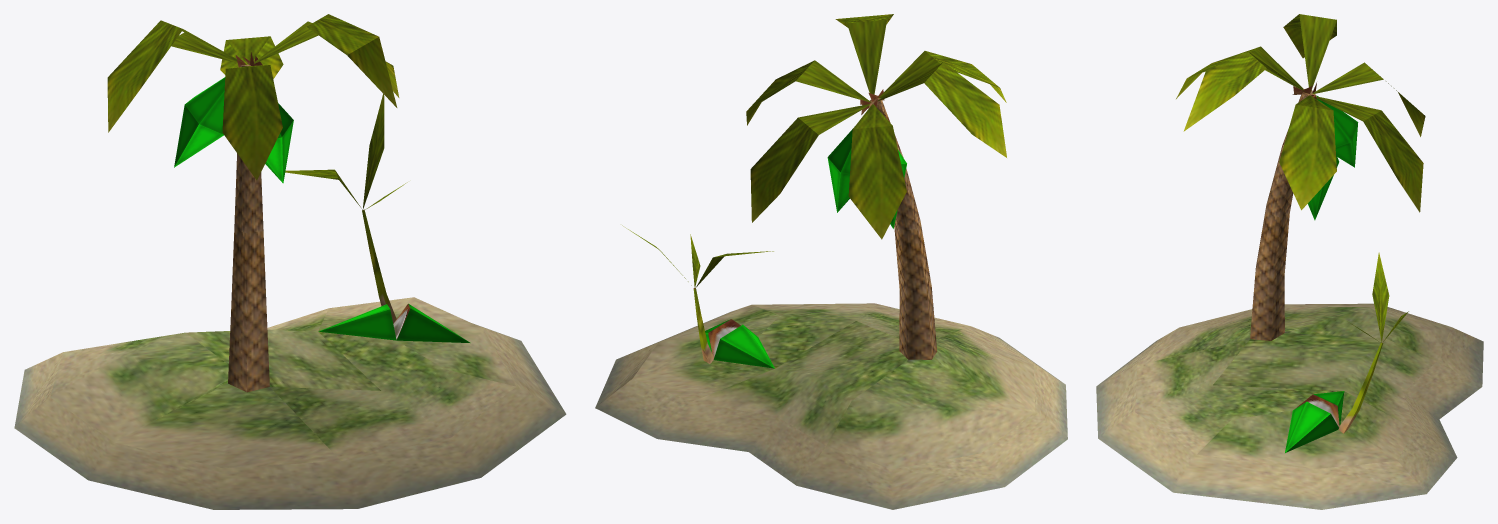
Rendered from copyicon.ico.obj.
3 renders of one model, left to right at view 1: azimuth 30°, elevation 25°; view 2: azimuth 150°, elevation 25°; view 3: azimuth 270°, elevation 25°, orthographic. The views are drawn at different scales.
Bounding box in the file's own units: 4.88 × 4.06 × 4.06.
Materials: 1 (1 with a texture image).
